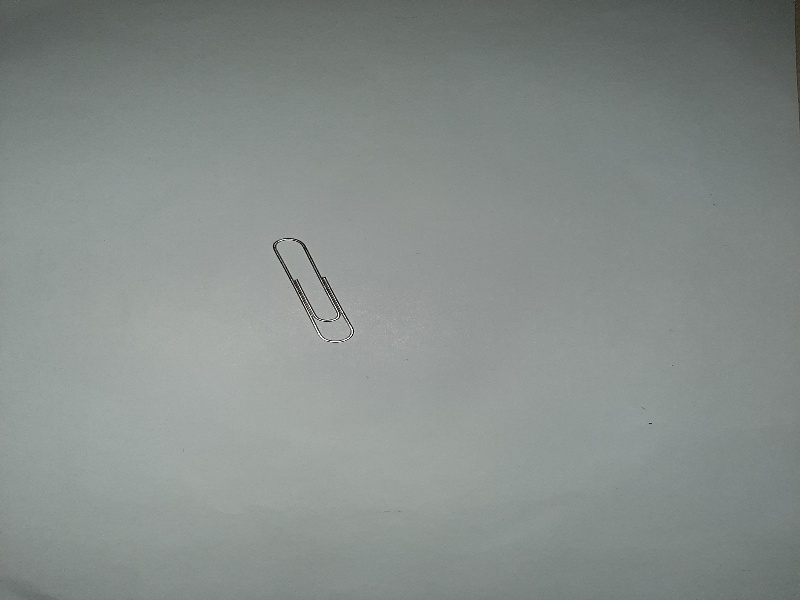Big Jumpclip: (259, 224, 365, 353)
